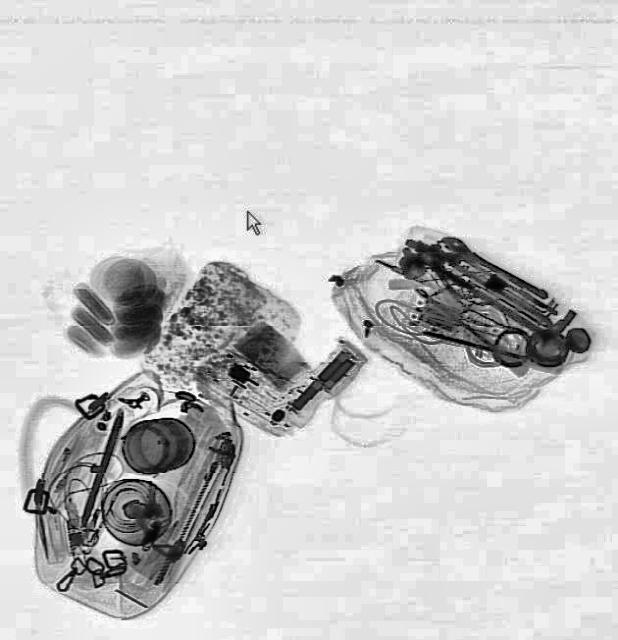Wrench: (437, 230, 553, 302)
